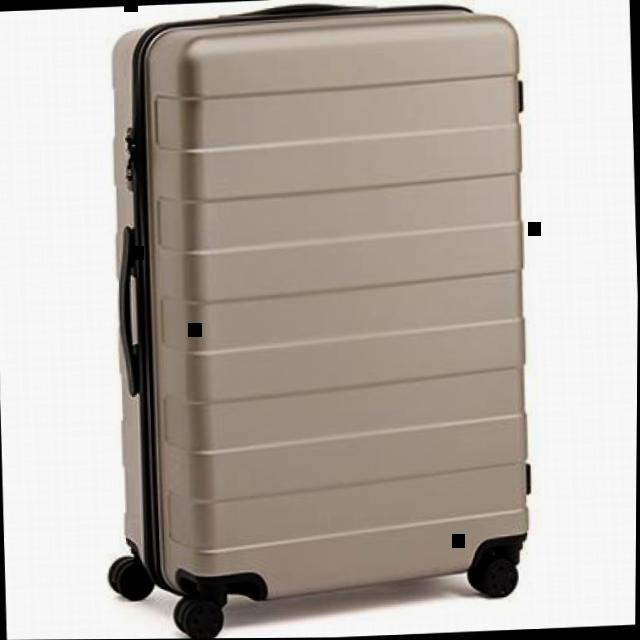luggage: (80, 0, 553, 640)
